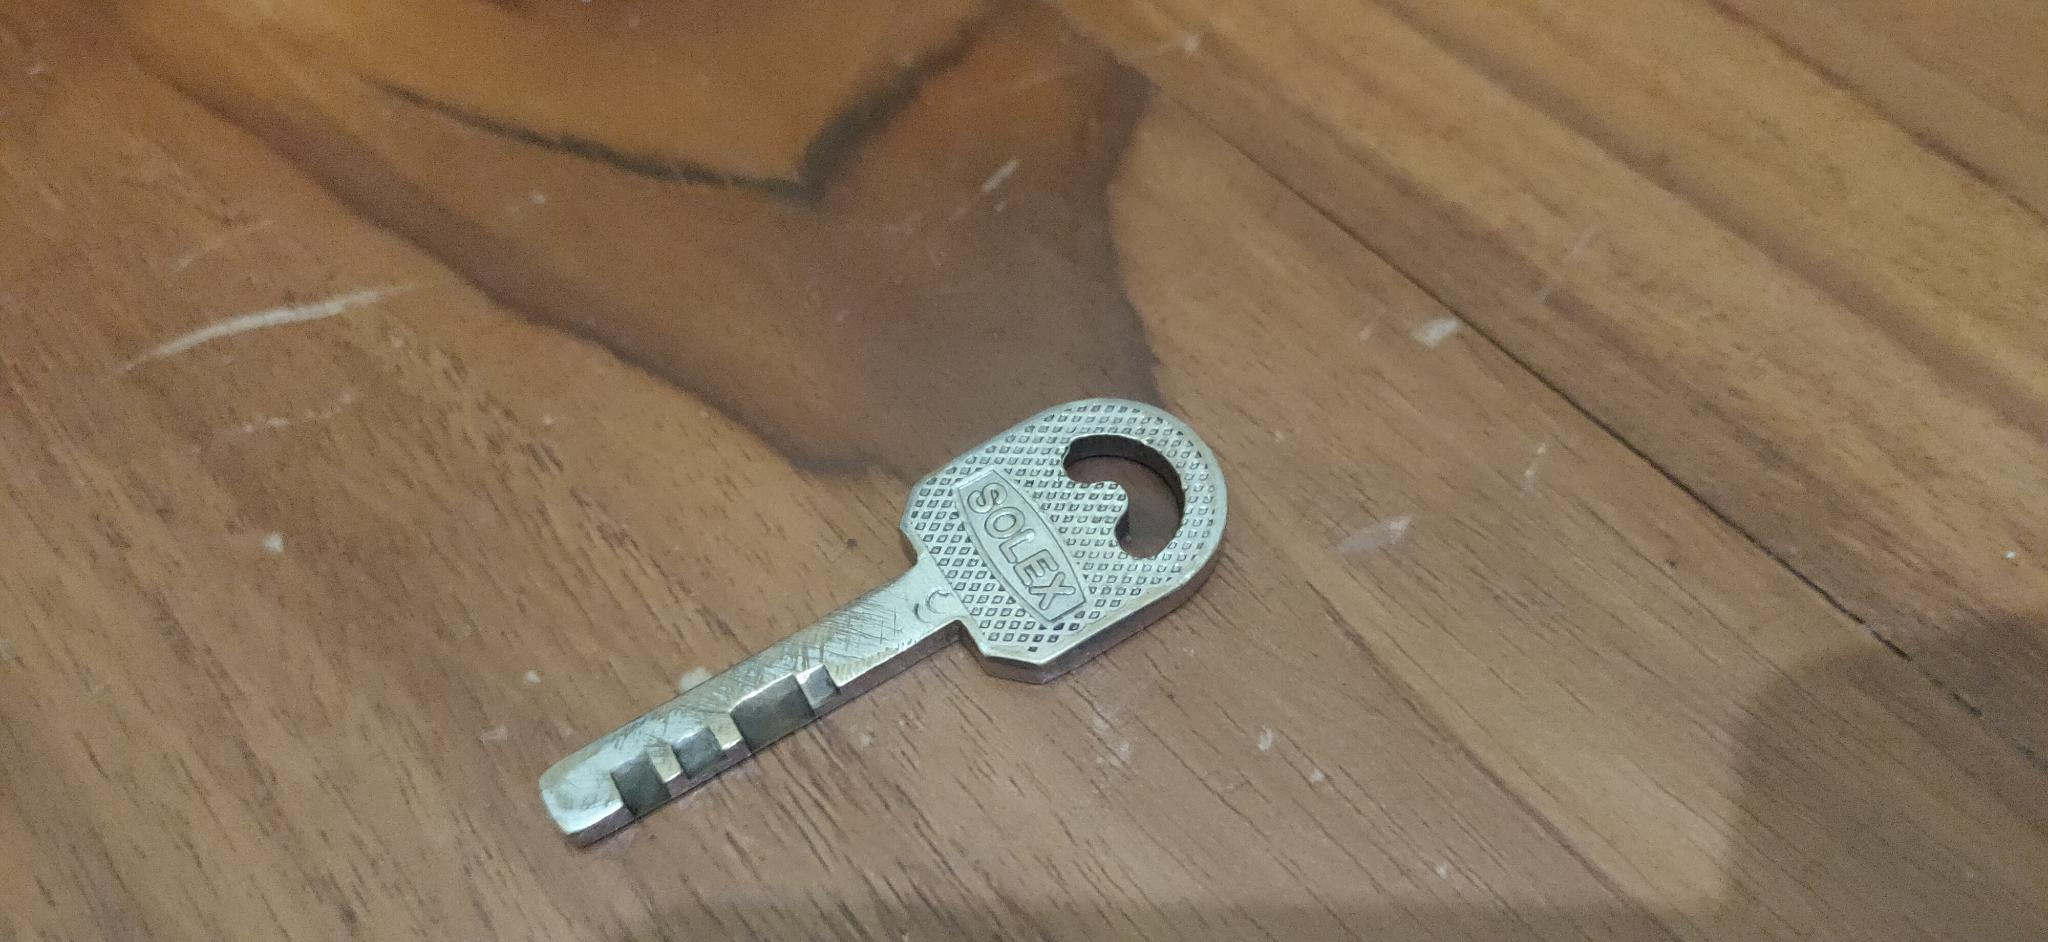keys: (524, 355, 1255, 882)
